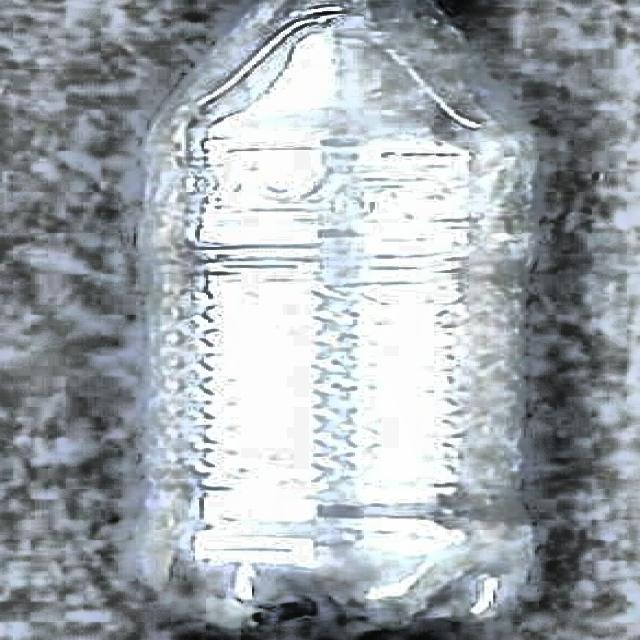plastic: (121, 0, 537, 640)
